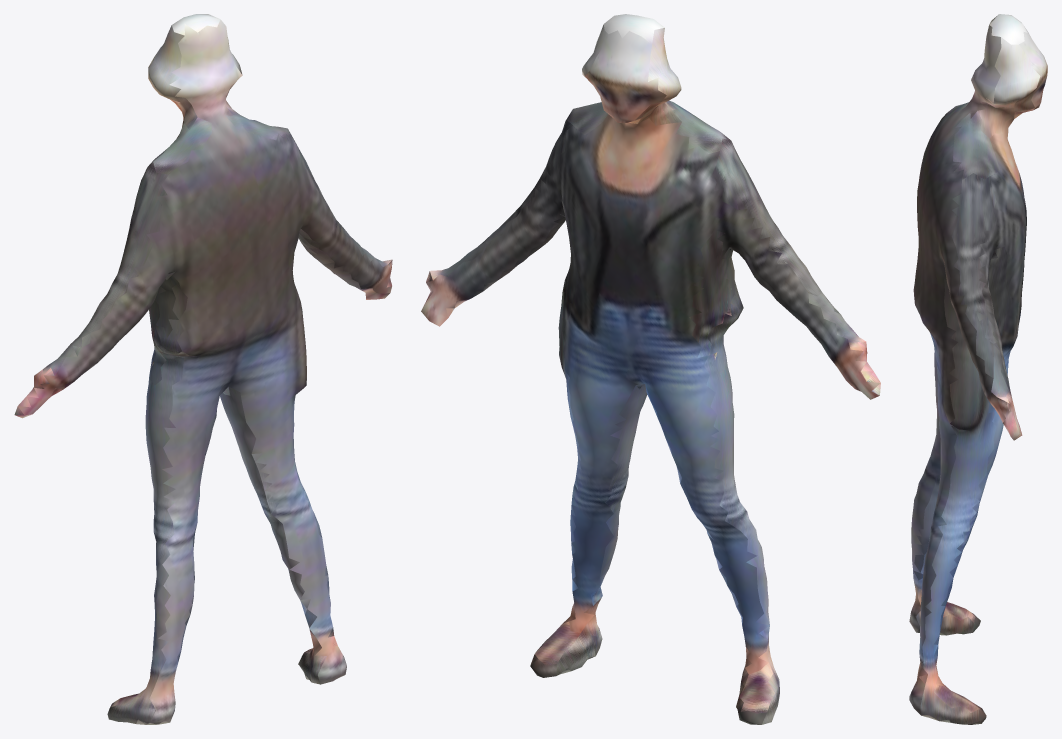
3 views of the same model, side by side, from view 1: azimuth 30°, elevation 25°; view 2: azimuth 150°, elevation 25°; view 3: azimuth 270°, elevation 25° (orthographic). The views are drawn at different scales.
Parts seen in each view (by area): view 1: world; view 2: world; view 3: world.
Boxes of the visible parts, bbox=[...] form: world: bbox=[14, 14, 392, 724]; world: bbox=[421, 14, 880, 724]; world: bbox=[909, 14, 1047, 724].
Size of the model in its own units: 0.5499 by 0.8596 by 0.1646.
1 material, 1 textured.
